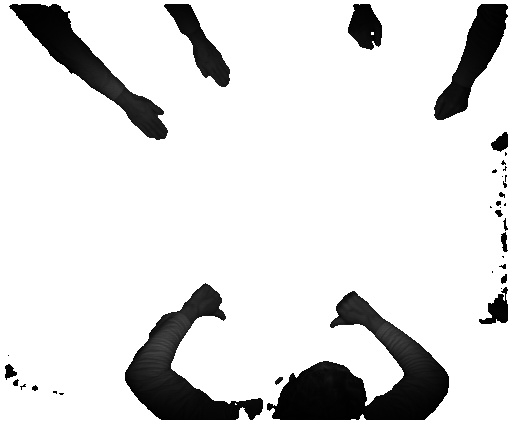hand: (328, 288, 375, 332), (126, 95, 167, 143), (191, 280, 231, 324), (194, 40, 231, 87), (344, 13, 383, 55), (432, 88, 470, 119)
